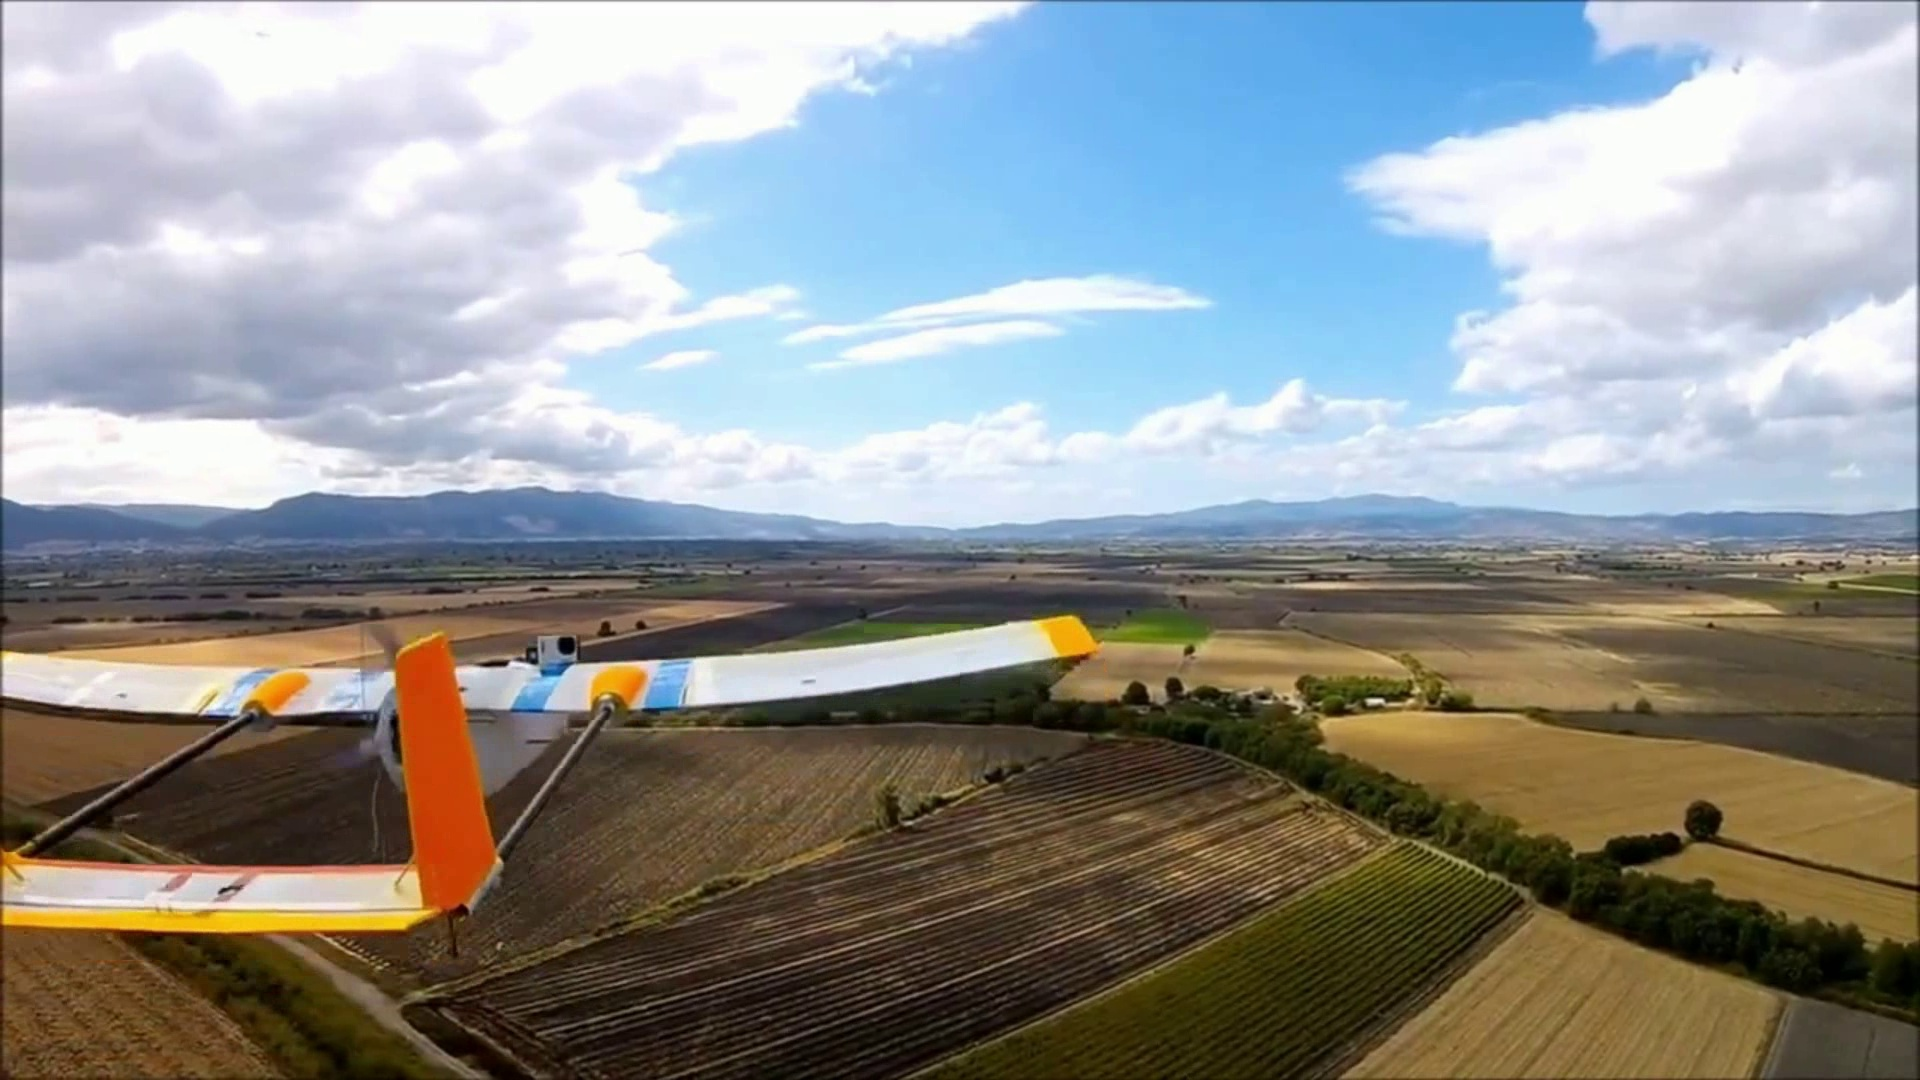airplane: (3, 607, 1100, 929)
